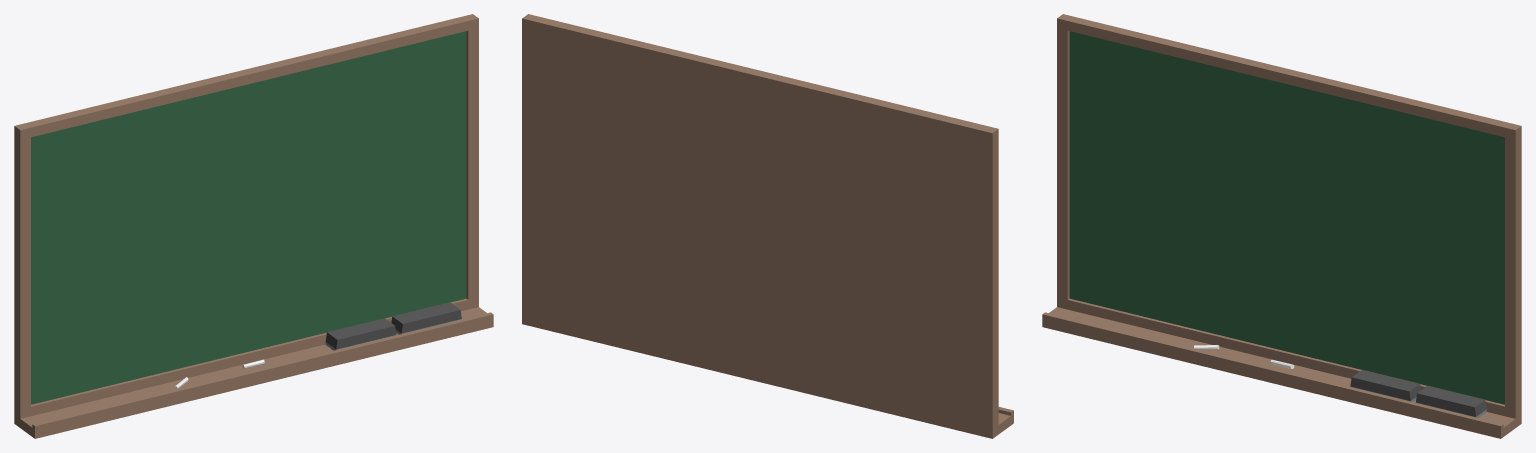
Rendered from classroom_chalkboard.glb.
The picture shows the model from 3 angles, left to right: view 1: azimuth 30°, elevation 25°; view 2: azimuth 150°, elevation 25°; view 3: azimuth 330°, elevation 25°; orthographic projection. The views are drawn at different scales.
Visible parts, largest first — view 1: Blackboard_01_Cube.029, Blackboard_01.003_Cube.039, Blackboard_01.002_Cube.038; view 2: Blackboard_01_Cube.029; view 3: Blackboard_01_Cube.029, Blackboard_01.002_Cube.038, Blackboard_01.003_Cube.039.
Part boxes in pixels (x1,y1,x2,y2): Blackboard_01_Cube.029: [14, 14, 493, 438]; Blackboard_01.003_Cube.039: [325, 318, 396, 350]; Blackboard_01.002_Cube.038: [391, 302, 461, 334]; Blackboard_01_Cube.029: [522, 14, 1013, 438]; Blackboard_01_Cube.029: [1042, 14, 1521, 438]; Blackboard_01.002_Cube.038: [1415, 385, 1486, 417]; Blackboard_01.003_Cube.039: [1350, 369, 1420, 401].
Bounding box in the file's own units: 2.4 × 1.49 × 0.1877.
